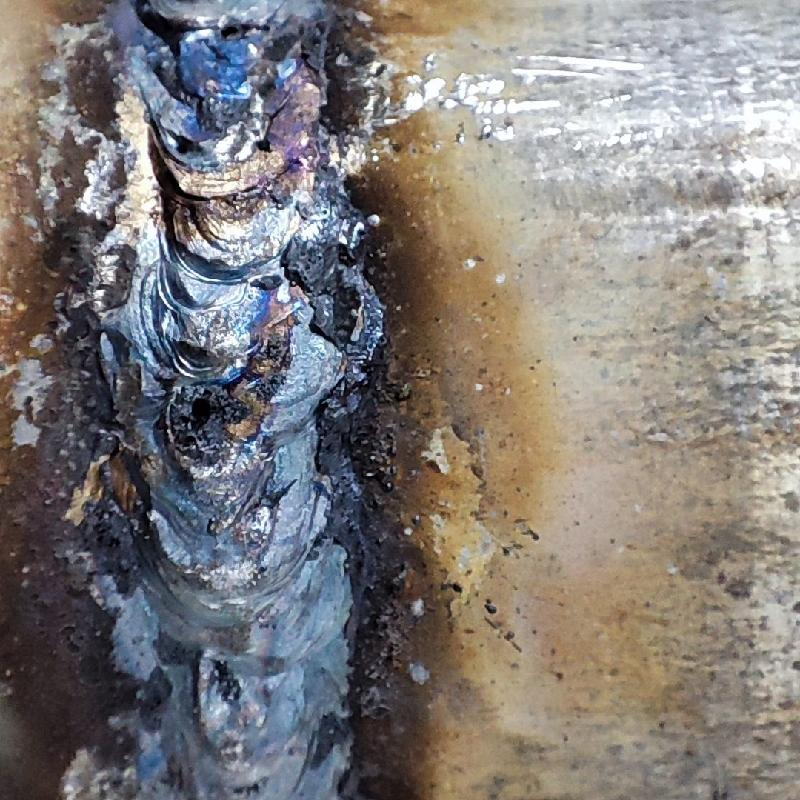Surface_pores: (171, 385, 228, 445), (244, 126, 286, 164), (168, 131, 203, 164), (210, 19, 248, 43)
